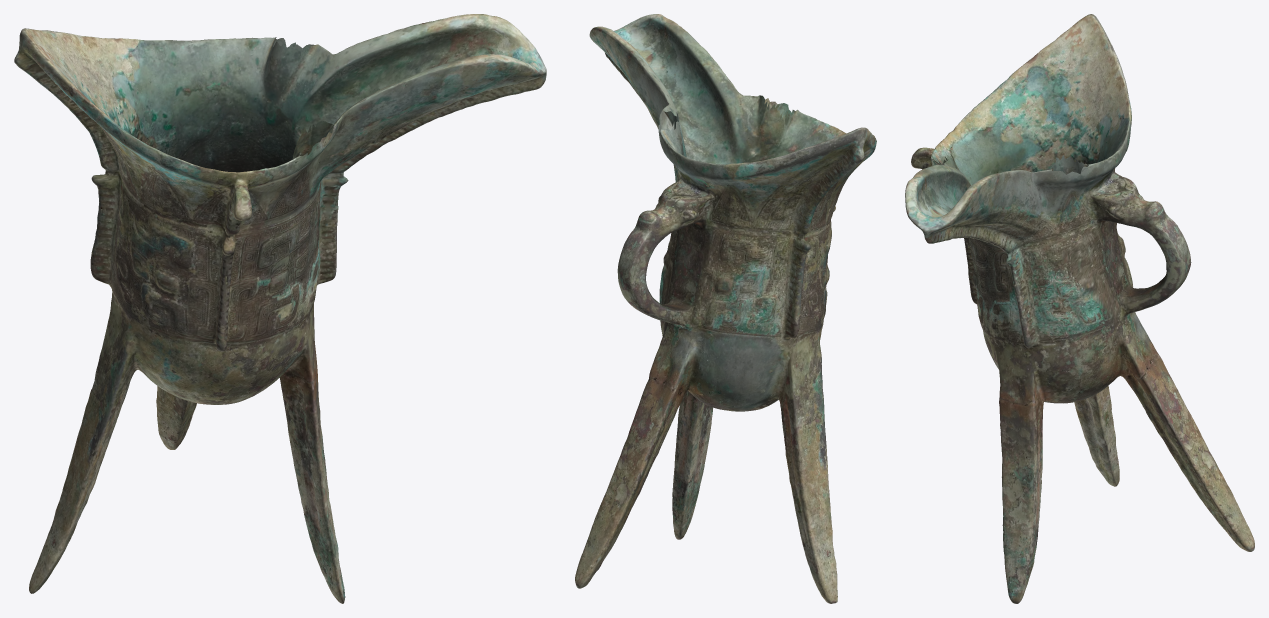
The model's file is jiao.glb.
The picture shows the model from 3 angles, left to right: view 1: azimuth 30°, elevation 25°; view 2: azimuth 150°, elevation 25°; view 3: azimuth 270°, elevation 25°; orthographic projection. The views are drawn at different scales.
Parts seen in each view (by area): view 1: Object_2; view 2: Object_2; view 3: Object_2.
Part boxes in pixels (x1,y1,x2,y2): Object_2: (14, 14, 546, 603); Object_2: (575, 14, 876, 603); Object_2: (905, 14, 1254, 603).
Size of the model in its own units: 1.67 by 2.25 by 1.48.
1 material, 1 textured.
